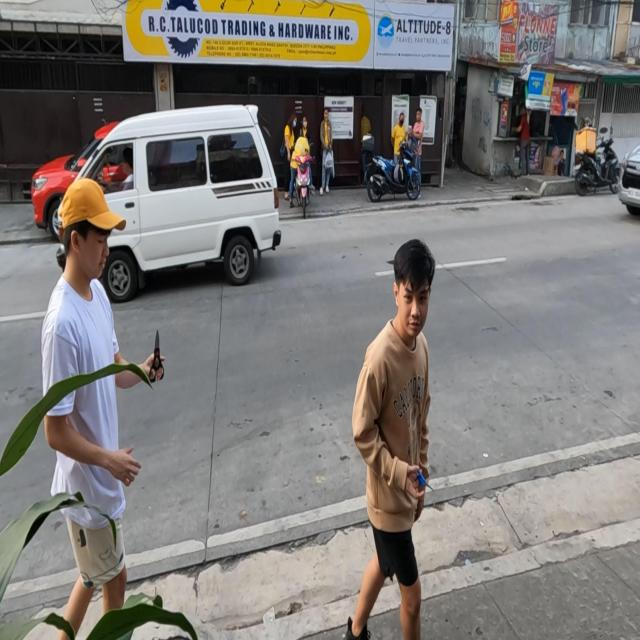scissor: (148, 328, 164, 384), (414, 467, 436, 492)
